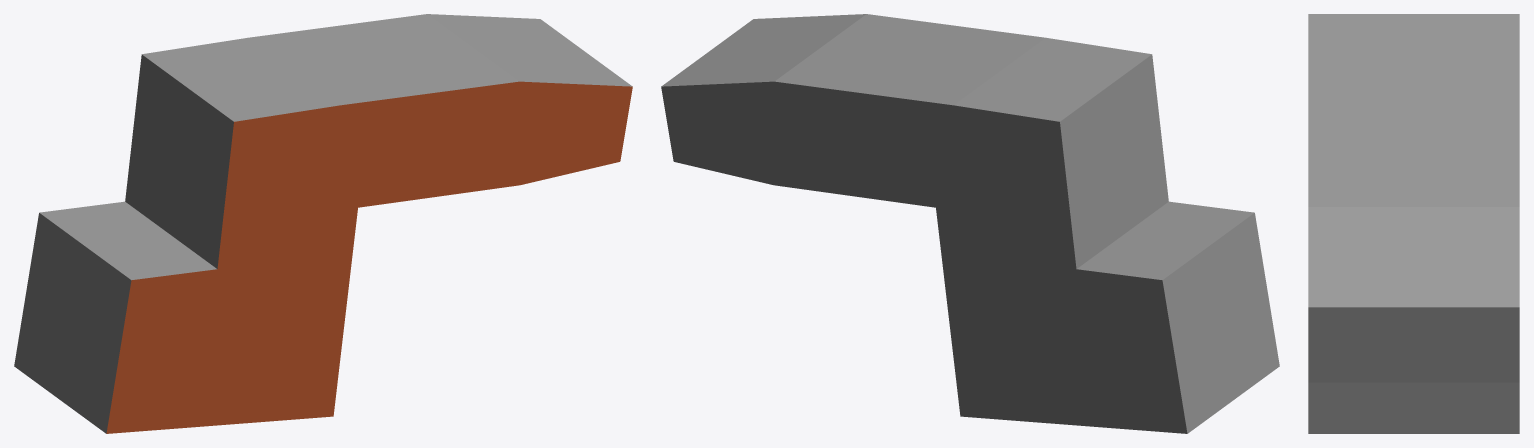
The model's file is construction_2497_assumed_A_Casa_h6m.obj.
The picture shows the model from 3 angles, left to right: view 1: azimuth 30°, elevation 25°; view 2: azimuth 150°, elevation 25°; view 3: azimuth 270°, elevation 25°; orthographic projection. The views are drawn at different scales.
Parts seen in each view (by area): view 1: construction_2497_assumed_A_Casa; view 2: construction_2497_assumed_A_Casa; view 3: construction_2497_assumed_A_Casa.
Boxes of the visible parts, x1,y1,x2,y2 form: construction_2497_assumed_A_Casa: (14,14,632,433); construction_2497_assumed_A_Casa: (661,14,1279,433); construction_2497_assumed_A_Casa: (1308,14,1519,433).
Bounding box in the file's own units: 19.74 × 11.43 × 6.
